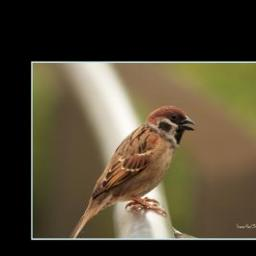Sparrow: (69, 105, 196, 238)
